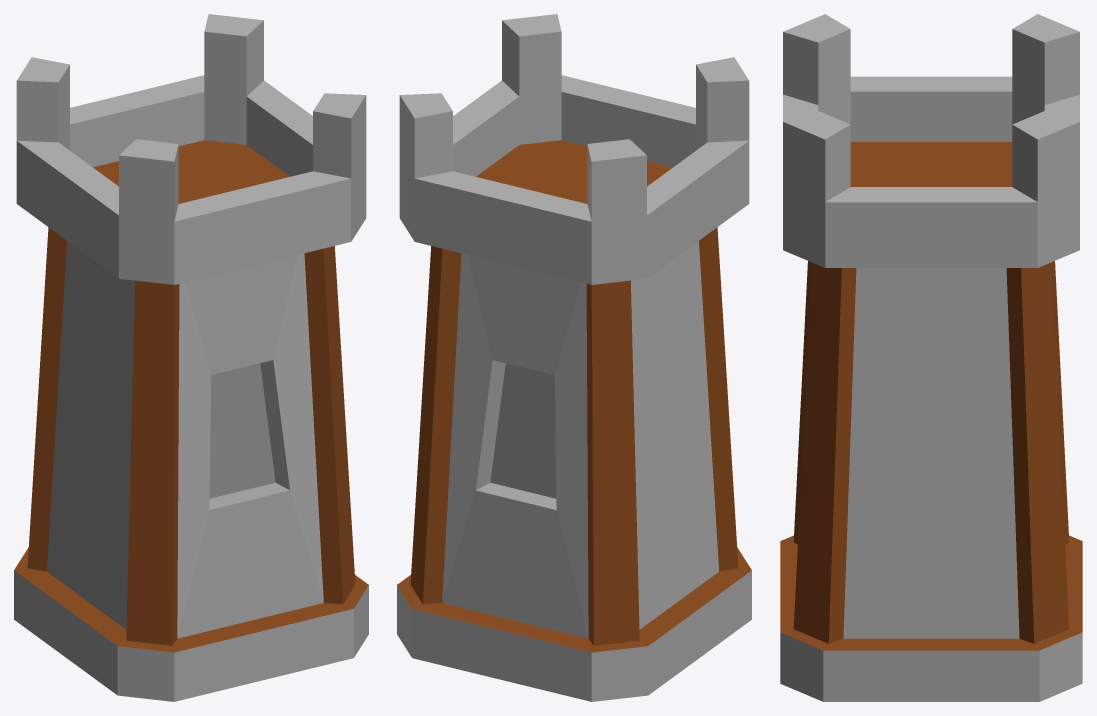
File: Muro_Nv3.glb
The picture shows the model from 3 angles, left to right: view 1: azimuth 30°, elevation 25°; view 2: azimuth 150°, elevation 25°; view 3: azimuth 270°, elevation 25°; orthographic projection. The views are drawn at different scales.
Visible parts, largest first — view 1: Cube.002; view 2: Cube.002; view 3: Cube.002.
Boxes of the visible parts, x1=… form: Cube.002: x1=14, y1=14, x2=368, y2=701; Cube.002: x1=397, y1=14, x2=751, y2=701; Cube.002: x1=780, y1=14, x2=1082, y2=701.
Bounding box in the file's own units: 1.01 × 2.07 × 1.01.
